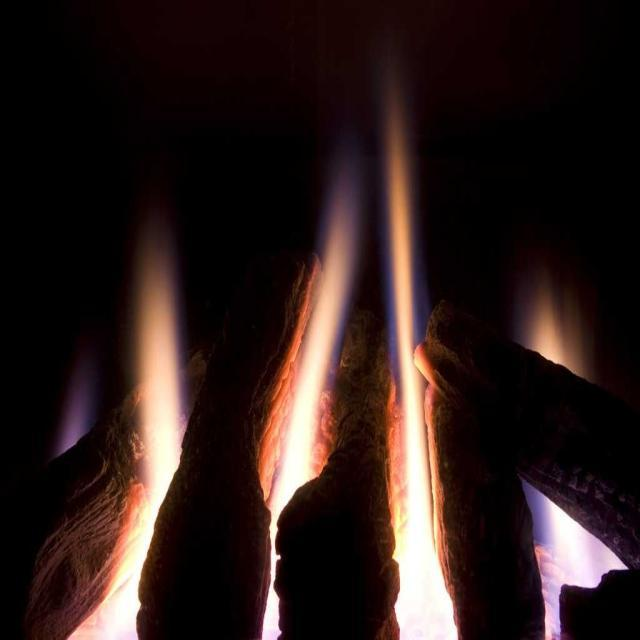Fire: (399, 411, 424, 628), (147, 295, 176, 445), (294, 358, 321, 473)
